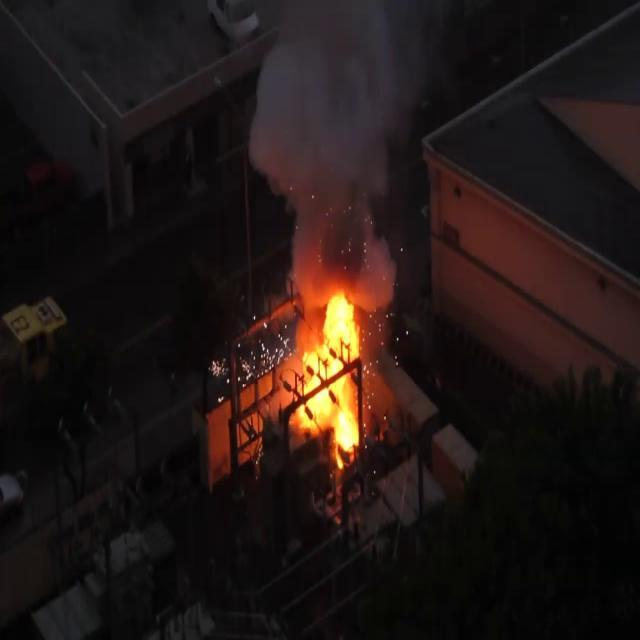Fire: (290, 284, 372, 464)
Smoke: (247, 1, 431, 288)
